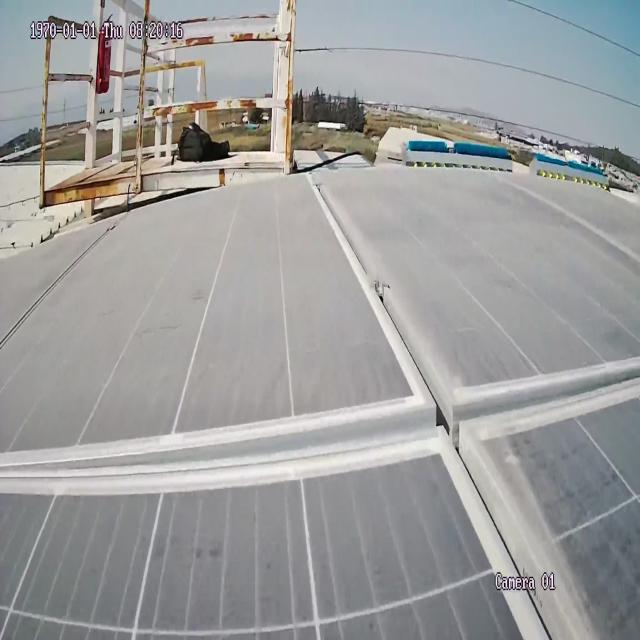interior panel: (0, 177, 638, 626)
